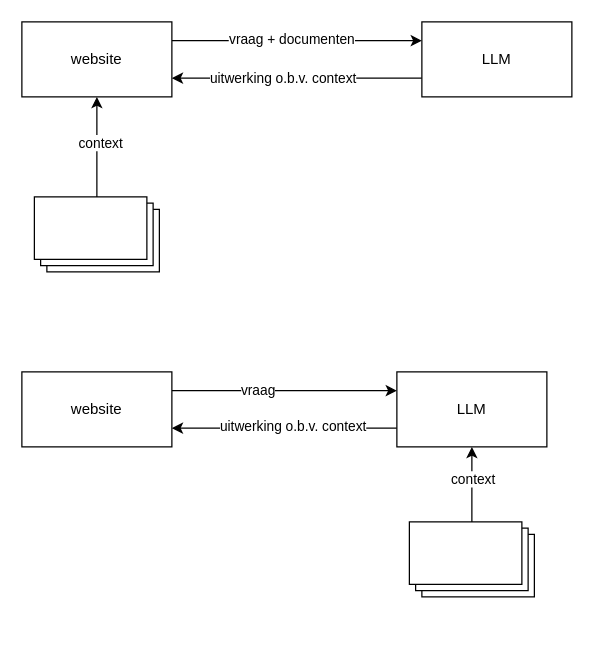
This 594x664 diagram has some shape labels left out. Each missing label, with the centre of its shape:
"Onderzoeks-documenten" belongs at [96,234].
"Uitwerkingen eerdere projecten" belongs at [471,559].
